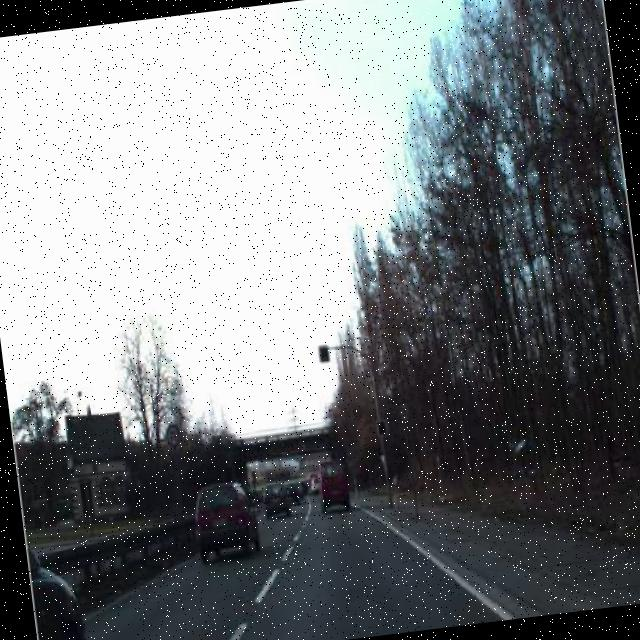Ograniczenie predkosci do 70: (163, 421, 183, 452), (395, 398, 414, 427)
